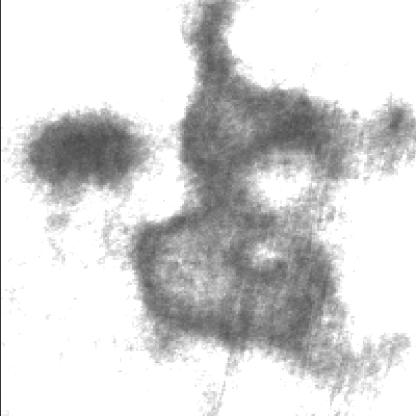patches: (181, 20, 368, 200), (131, 214, 347, 362), (26, 119, 148, 202)
